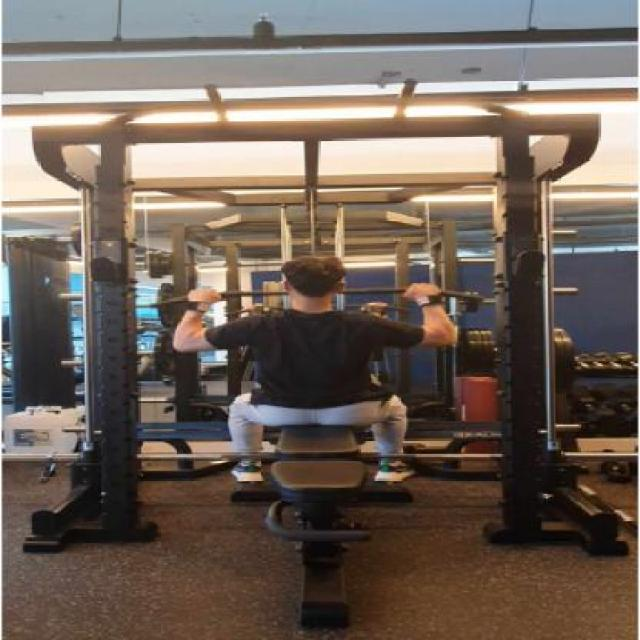Lat Pull Down: (35, 77, 640, 640)
